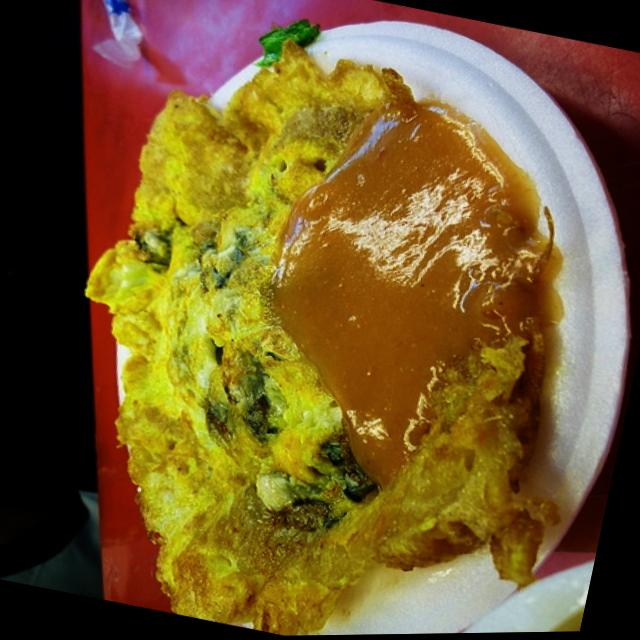熟制海鲜: (46, 21, 640, 639)
